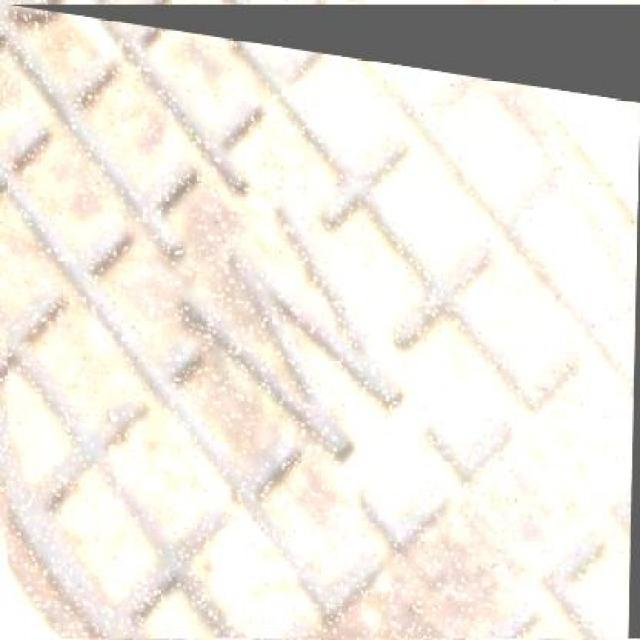Manhole: (7, 4, 640, 638)
